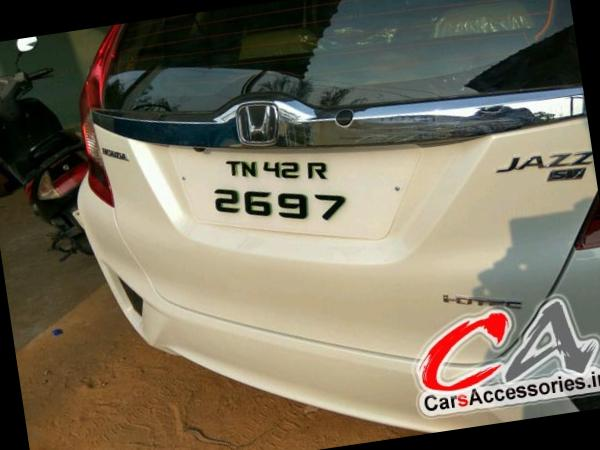plate: (146, 97, 435, 268)
